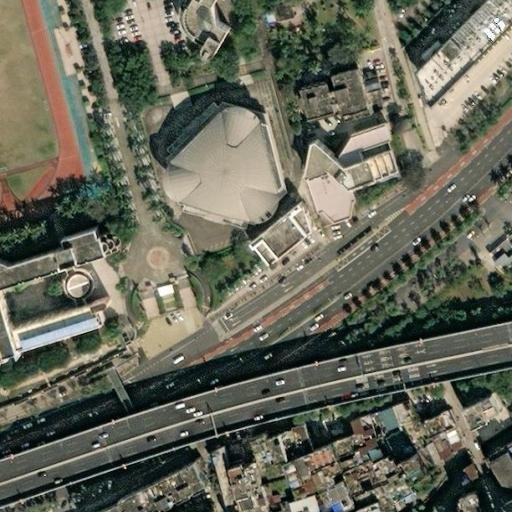building: (159, 107, 295, 227), (407, 0, 512, 110), (9, 294, 98, 345), (305, 141, 393, 190), (121, 462, 203, 512), (255, 212, 315, 275), (293, 169, 347, 222), (183, 0, 230, 56), (333, 121, 388, 167), (8, 244, 66, 281), (59, 222, 107, 264), (334, 76, 375, 123), (304, 85, 344, 128), (306, 454, 343, 493), (212, 456, 237, 512), (473, 434, 512, 464), (466, 405, 499, 439), (341, 466, 377, 497), (483, 451, 512, 488), (333, 440, 364, 467), (419, 416, 450, 442), (453, 456, 481, 484), (174, 206, 215, 224), (485, 250, 512, 277), (235, 472, 257, 505), (250, 468, 270, 501), (62, 271, 87, 296), (378, 462, 403, 487), (288, 431, 309, 460), (478, 241, 503, 265), (449, 489, 475, 512), (270, 443, 290, 472), (156, 132, 180, 156), (385, 483, 409, 507), (254, 441, 275, 468), (405, 463, 429, 486), (325, 490, 350, 512), (378, 434, 403, 456), (185, 104, 208, 127), (388, 402, 410, 426), (282, 467, 302, 491), (377, 412, 397, 435), (213, 217, 241, 232), (348, 421, 370, 439), (158, 91, 178, 110), (266, 485, 286, 504), (296, 464, 312, 487), (284, 500, 314, 512), (364, 414, 381, 433), (89, 502, 119, 512), (443, 436, 458, 453), (288, 490, 307, 503), (497, 499, 512, 512), (503, 243, 512, 257), (356, 506, 375, 512), (253, 504, 265, 512), (251, 16, 263, 23), (239, 508, 248, 512)
